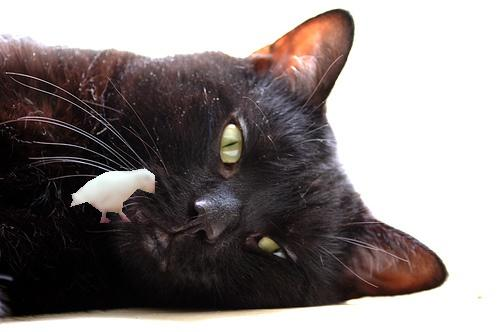tampered: (71, 169, 155, 223)
